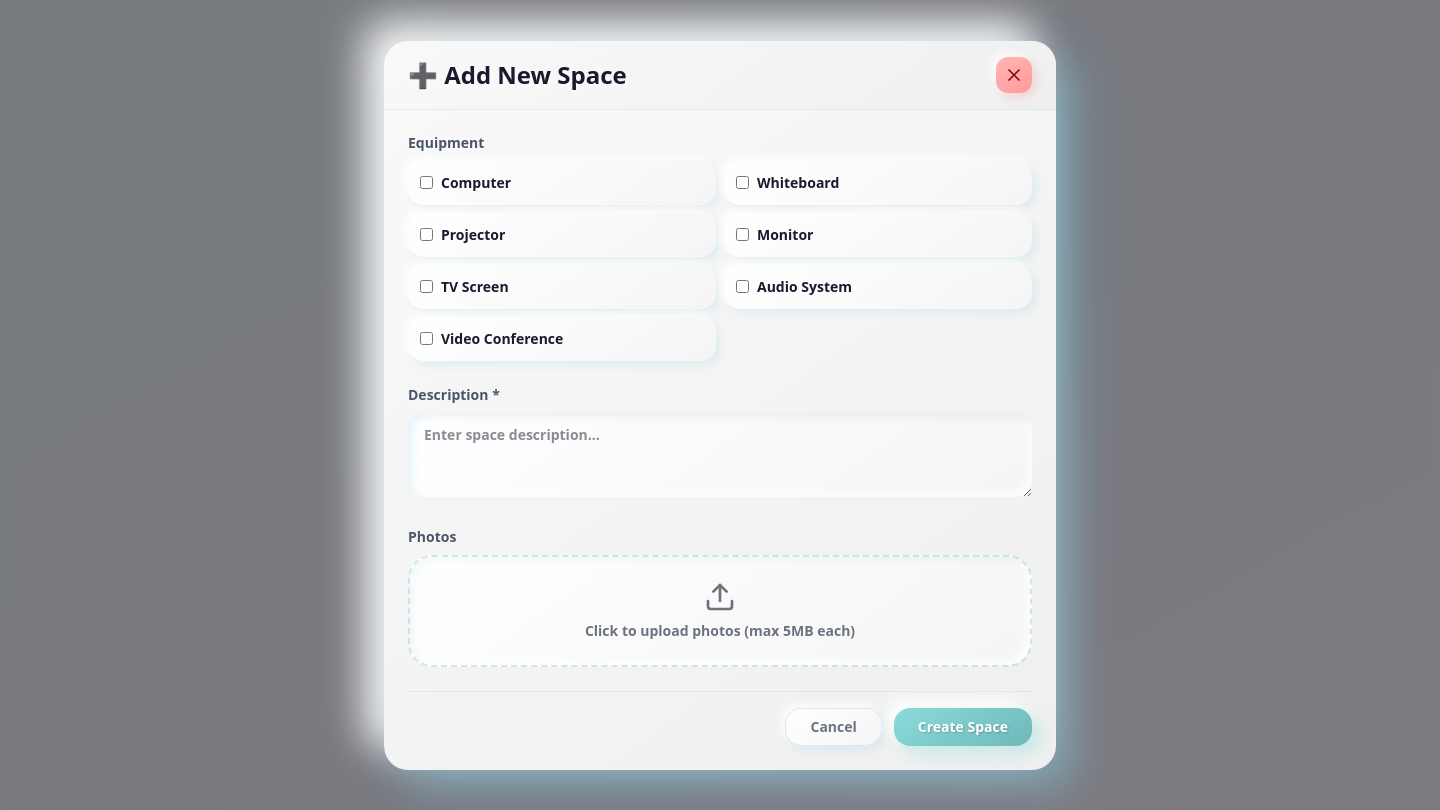
Scenario: SpaceFormDialog › shows validation errors for missing required fields (AC#5)
(page scrolled)
# Try to submit without filling required fields
Click the button "Create Space". click: [963, 726]
box: [894,708,1032,746]
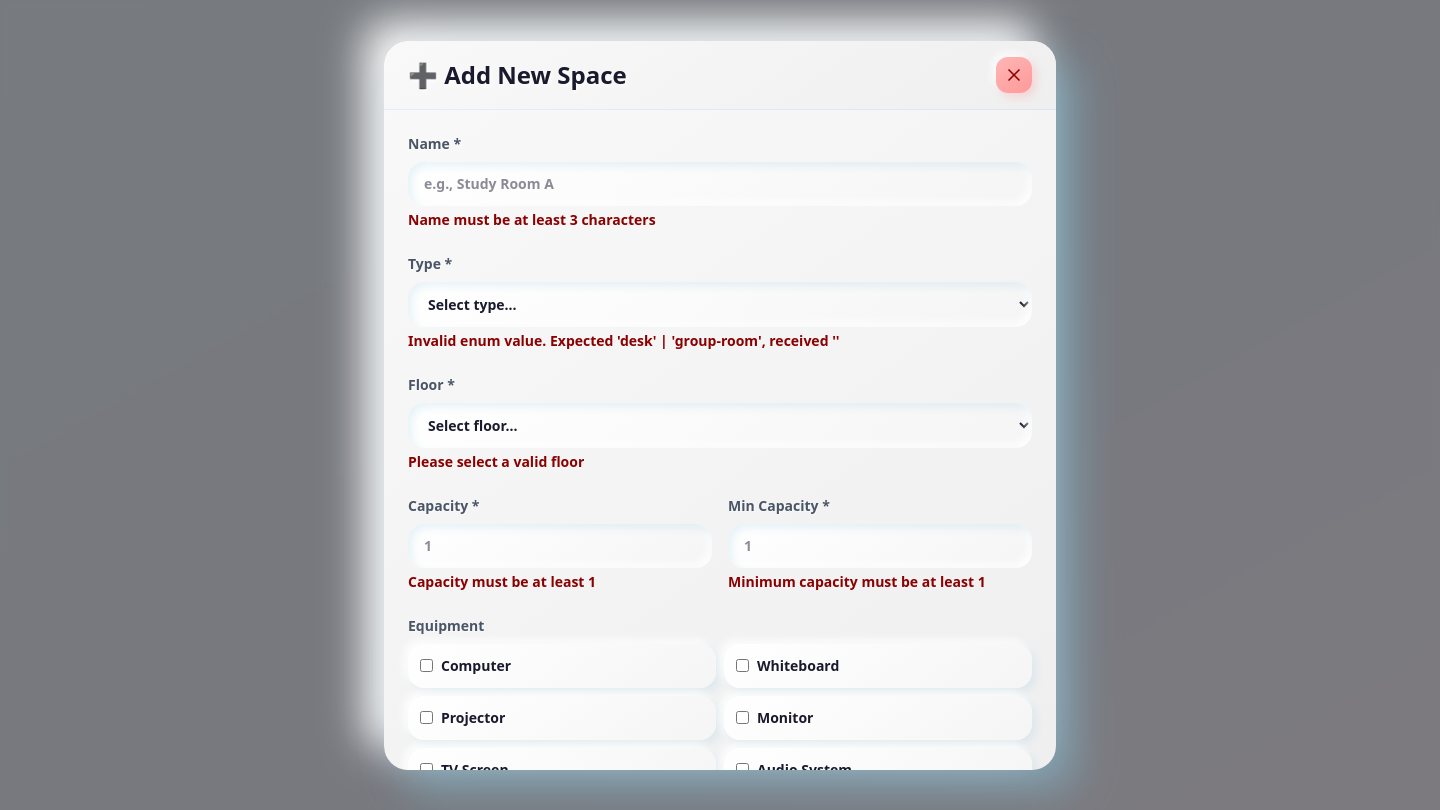
Now the text "Name must be at least 3 characters" is shown, box [408,210,656,228]
